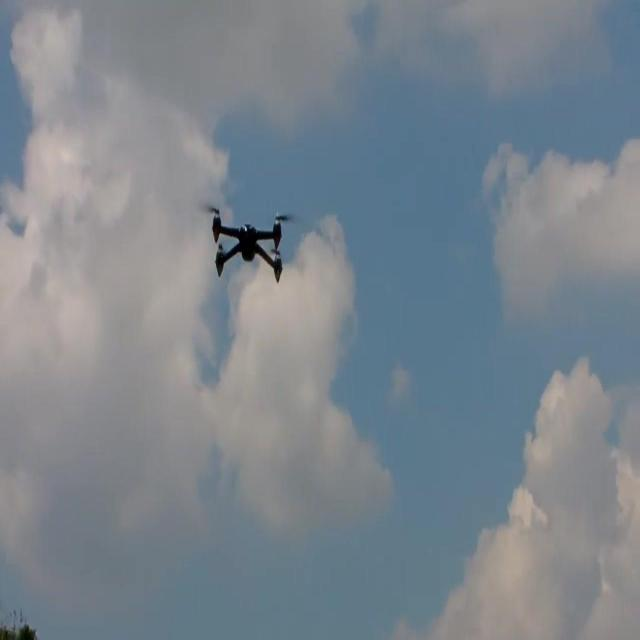drone: (202, 202, 296, 284)
